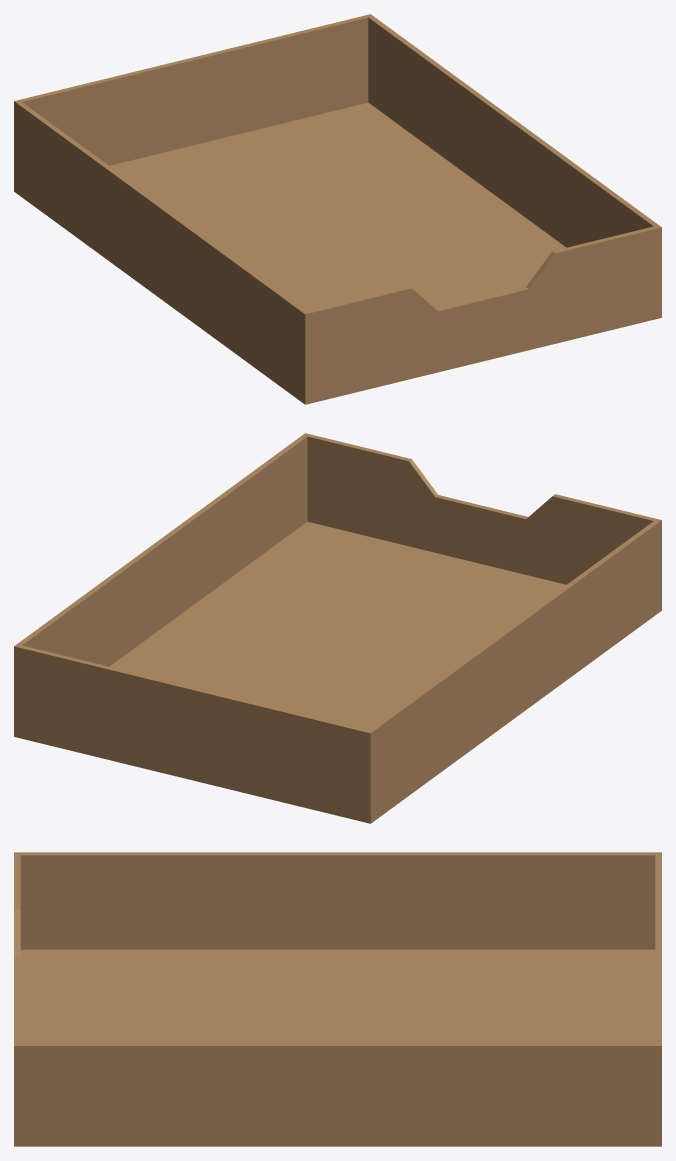
File: SM_lettertray_01.fbx
3 renders of one model, top to bottom at view 1: azimuth 30°, elevation 25°; view 2: azimuth 150°, elevation 25°; view 3: azimuth 270°, elevation 25°, orthographic. The views are drawn at different scales.
Parts seen in each view (by area): view 1: Box015; view 2: Box015; view 3: Box015.
Boxes of the visible parts, bbox=[...] form: Box015: bbox=[14, 14, 661, 404]; Box015: bbox=[14, 433, 661, 823]; Box015: bbox=[14, 852, 661, 1146].
Bounding box in the file's own units: 20.09 × 4.87 × 28.43.
